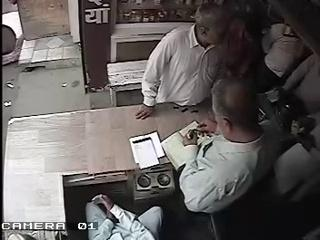Normal: (177, 76, 319, 240), (135, 1, 231, 120), (85, 194, 163, 240)
